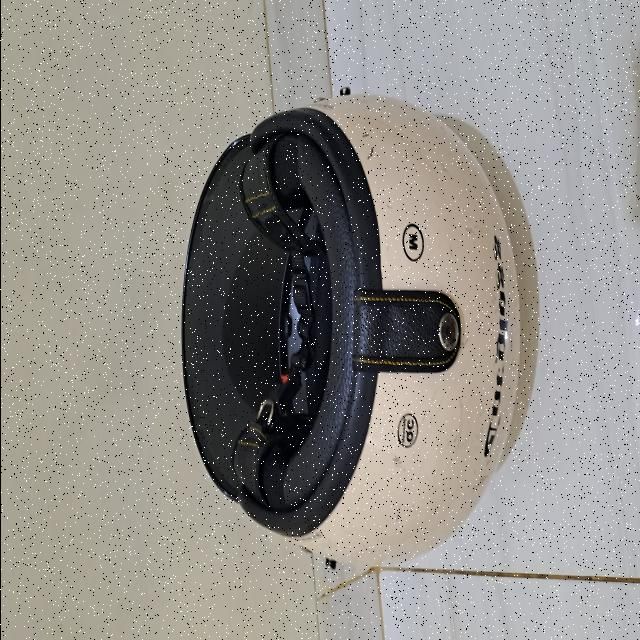Helmet: (181, 94, 539, 568)
